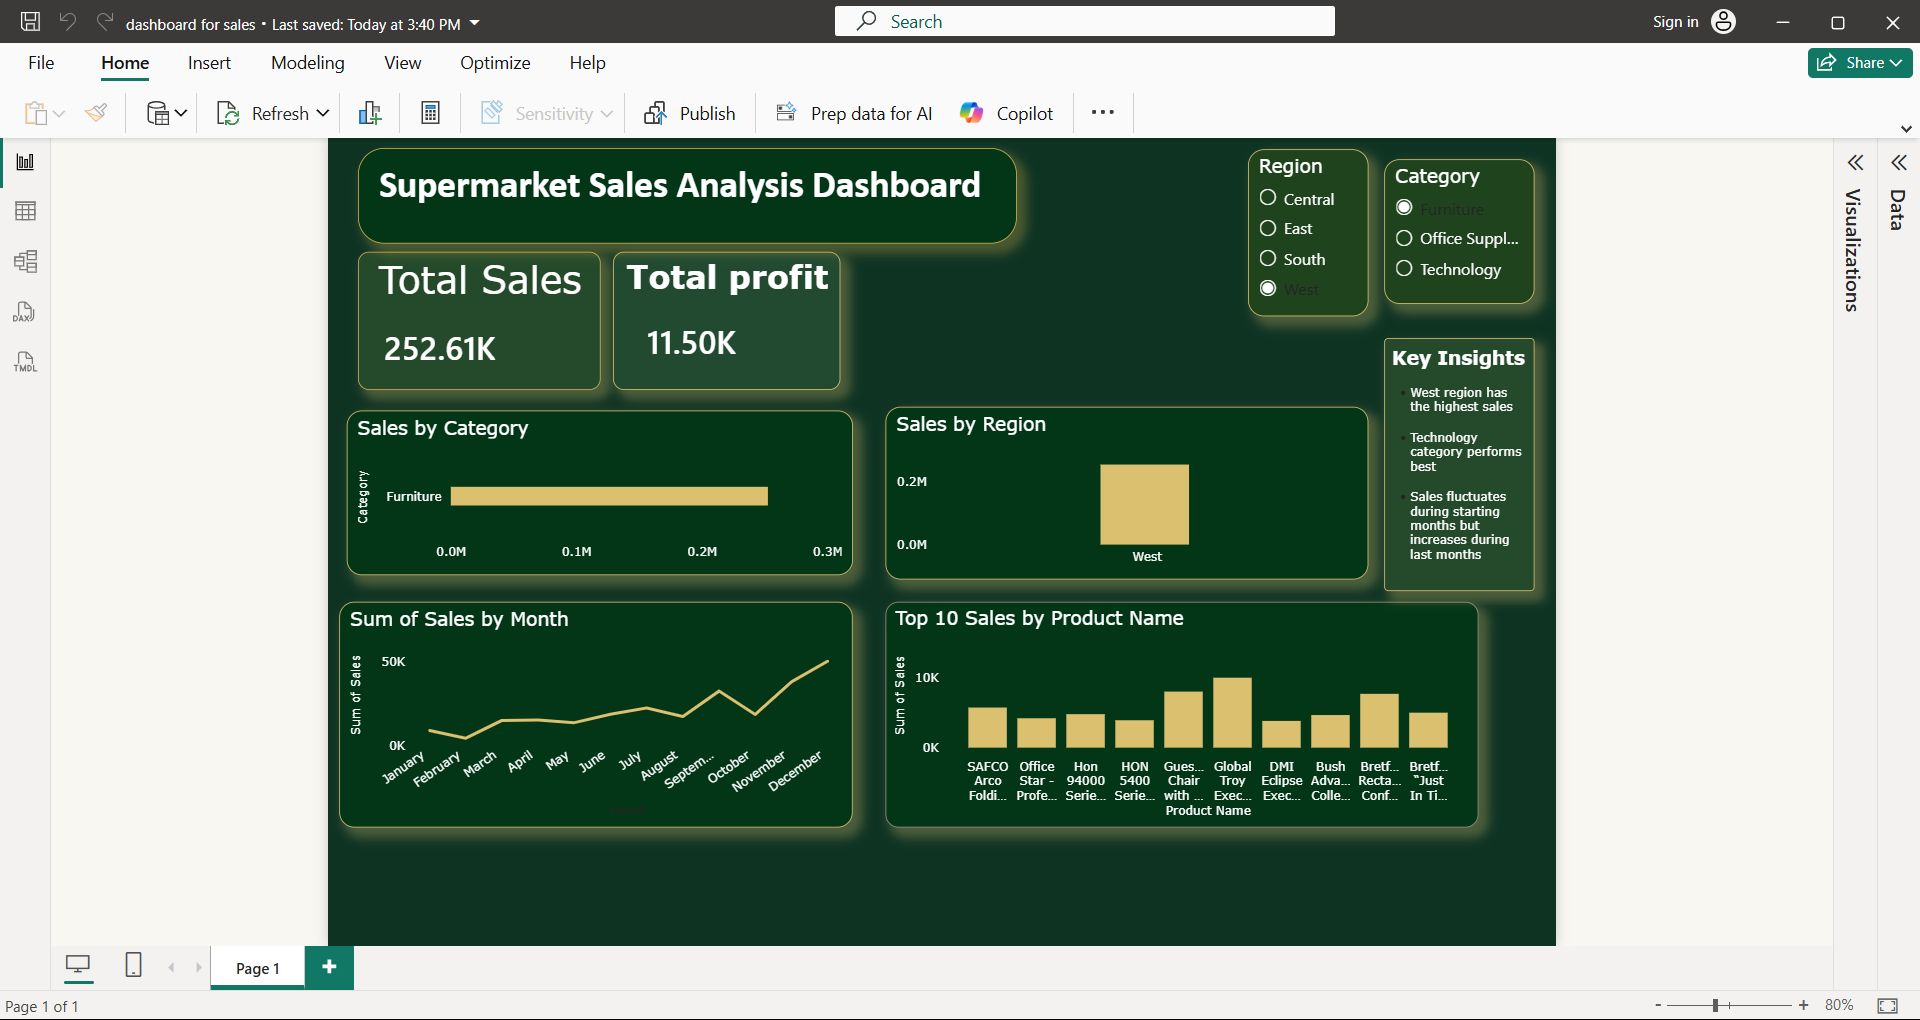

The dashboard page shown, as its layout file describes it:
{"tool":"powerbi","page":{"name":"Page 1","canvas":[1222,805],"ordinal":0},"visuals":[{"type":"cardVisual","title":"Total Sales","fields":{"Data":["Sum(Table1.Sales)"]},"box":[29.5,113.1,241.6,137.9],"z":0},{"type":"cardVisual","title":"Total profit","fields":{"Data":["Sum(Table1.Profit)"]},"box":[284,113.1,226.3,137.9],"z":1000},{"type":"barChart","title":"Sales by Category","fields":{"Category":["Table1.Category"],"Y":["Sum(Table1.Sales)"]},"box":[18.9,271,504.4,163.8],"z":2000},{"type":"columnChart","title":"Sales by Region","fields":{"Category":["Table1.Region"],"Y":["Sum(Table1.Sales)"]},"box":[555,267.5,480.8,172],"z":3000},{"type":"lineChart","fields":{"Category":["Table1.Order Date.Variation.Date Hierarchy.Month"],"Y":["Sum(Table1.Sales)"]},"box":[11.8,461.9,511.4,225.1],"z":4000},{"type":"columnChart","title":"Top 10 Sales by Product Name","fields":{"Category":["Table1.Product Name"],"Y":["Sum(Table1.Sales)"]},"box":[555,461.9,590.4,225.1],"z":5000},{"type":"listSlicer","fields":{"Values":["Table1.Region"]},"box":[915.6,11.8,120.2,166.2],"z":6000},{"type":"listSlicer","fields":{"Values":["Table1.Category"]},"box":[1362.9,8.6,208.6,191.4],"z":7000},{"type":"listSlicer","fields":{"Values":["Table1.Category"]},"box":[1051.1,21.2,149.7,143.8],"z":8000},{"type":"textbox","box":[29.5,9.4,656.4,95.5],"z":9000},{"type":"textbox","box":[1051.1,199.1,149.7,252.2],"z":10000}]}

Visuals, with their boxes on the page's 1222x805 design canvas (x1, y1, x2, y2). These are canvas units, not pixel positions in the 1920x1020 screenshot, which may show the page scaled, cropped or inside an application window:
"Total Sales" cardVisual: rect(30, 113, 271, 251)
"Total profit" cardVisual: rect(284, 113, 510, 251)
"Sales by Category" barChart: rect(19, 271, 523, 435)
"Sales by Region" columnChart: rect(555, 268, 1036, 440)
lineChart - Table1.Order Date.Variation.Date Hierarchy.Month x Sum(Table1.Sales): rect(12, 462, 523, 687)
"Top 10 Sales by Product Name" columnChart: rect(555, 462, 1145, 687)
listSlicer - Table1.Region: rect(916, 12, 1036, 178)
listSlicer - Table1.Category: rect(1363, 9, 1572, 200)
listSlicer - Table1.Category: rect(1051, 21, 1201, 165)
textbox: rect(30, 9, 686, 105)
textbox: rect(1051, 199, 1201, 451)
